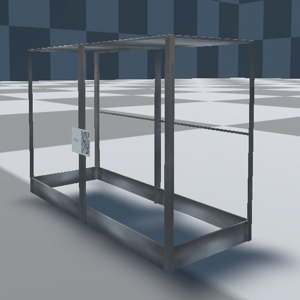Rack: (23, 32, 257, 276)
